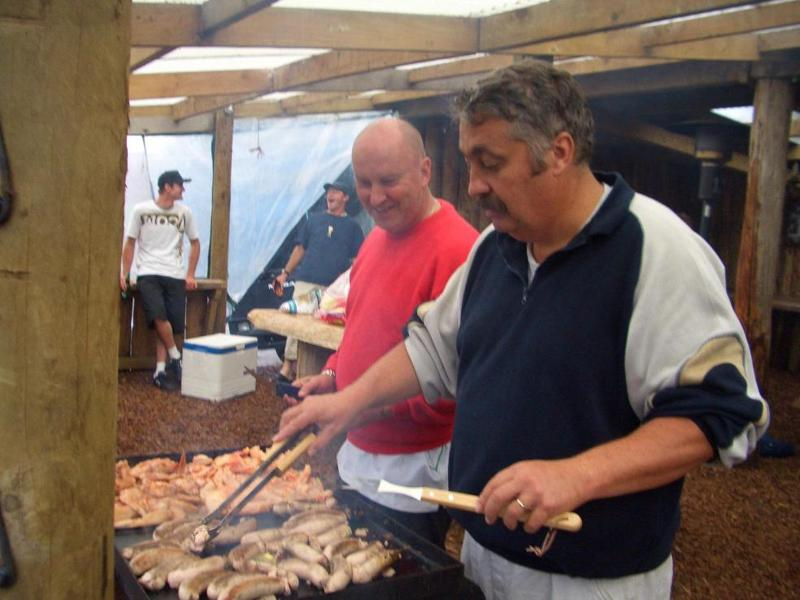person: (265, 58, 759, 599)
